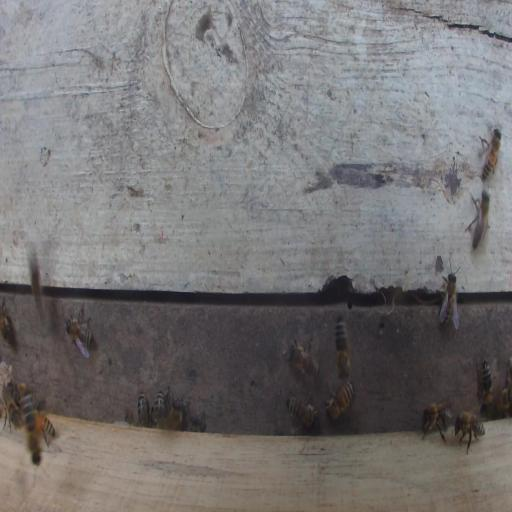bee: (19, 390, 43, 464), (64, 302, 94, 359), (439, 259, 462, 330), (466, 189, 491, 251), (453, 410, 486, 452), (287, 337, 320, 379), (421, 397, 452, 441), (286, 393, 320, 430), (479, 127, 502, 180), (325, 380, 354, 422), (335, 318, 351, 379), (475, 358, 493, 411), (1, 393, 22, 433), (0, 295, 16, 347), (164, 398, 186, 430), (150, 389, 169, 426), (497, 366, 511, 414), (137, 393, 149, 428), (187, 411, 206, 431)
